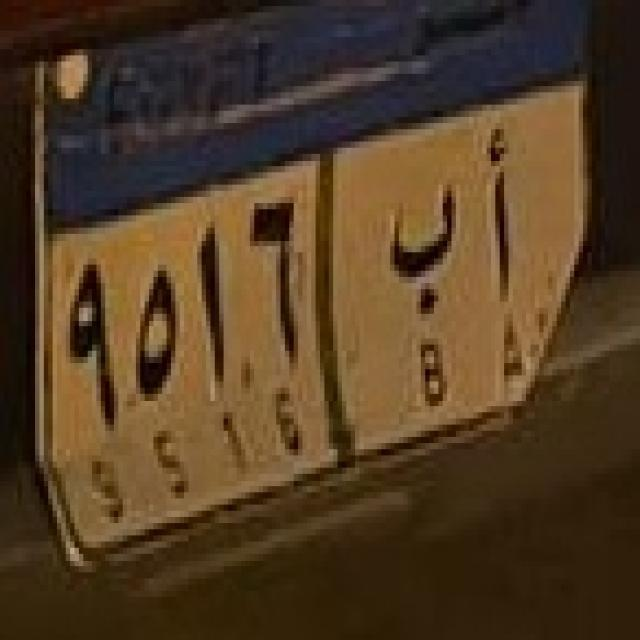1: (193, 218, 246, 402)
5: (132, 258, 186, 404)
6: (245, 189, 312, 375)
9: (66, 249, 126, 442)
alef: (478, 120, 516, 318)
baa: (386, 184, 464, 318)
